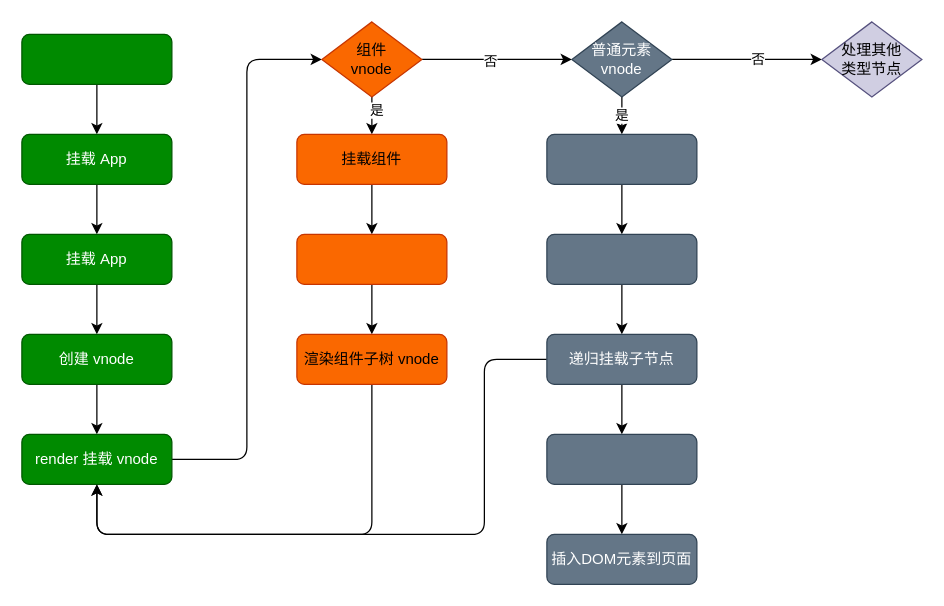
The diagram is 944 pixels wide and 606 high, and some of its shapes have lost their labels. Each missing label, with the centre of its shape:
createApp: the point at 96,58
创建 DOM 元素: the point at 621,258
创建组件实例: the point at 371,258
挂载 DOM 元素: the point at 621,158
设置 DOM 元素属性: the point at 621,458
